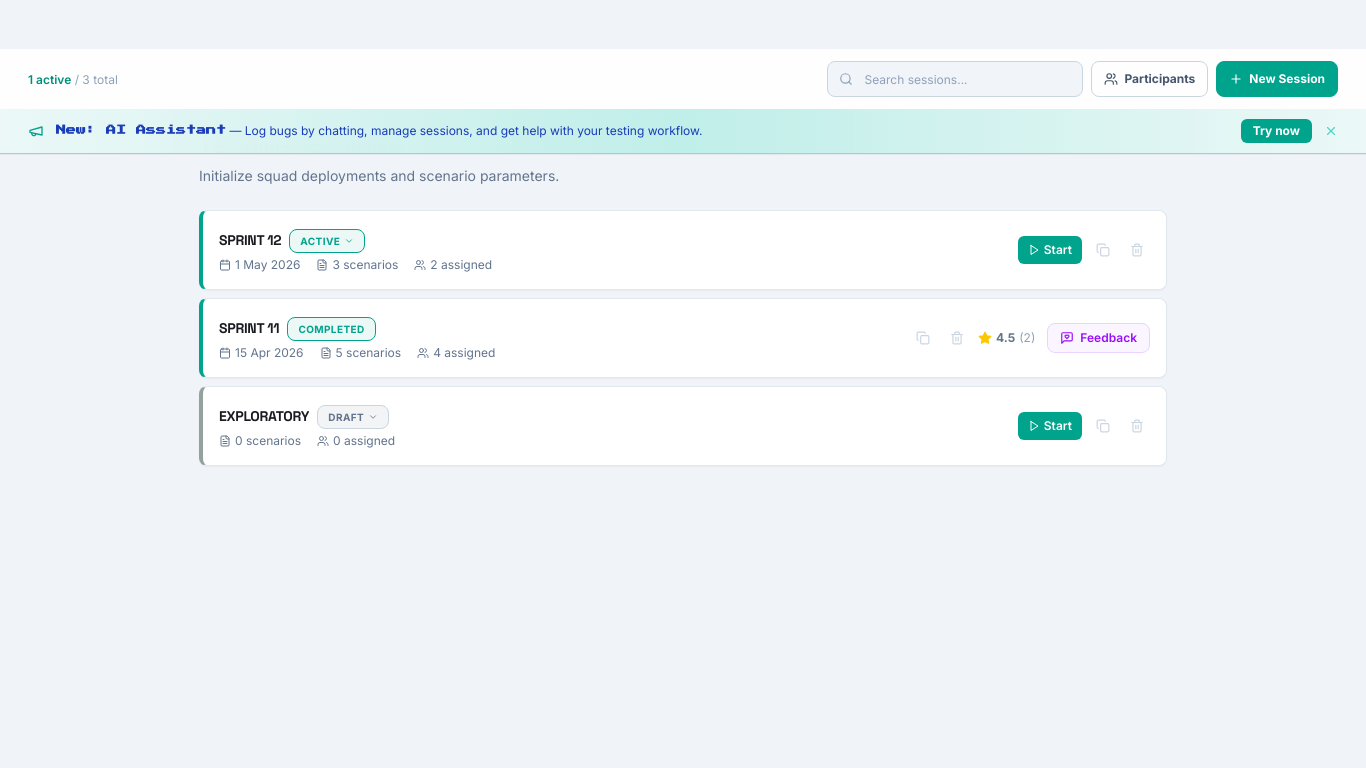
Test: SessionsListPage › cancel closes delete confirm modal
Click the button named "Delete" in the row of "1 May 2026". click: (1137, 250)
box: [1124,237,1150,263]
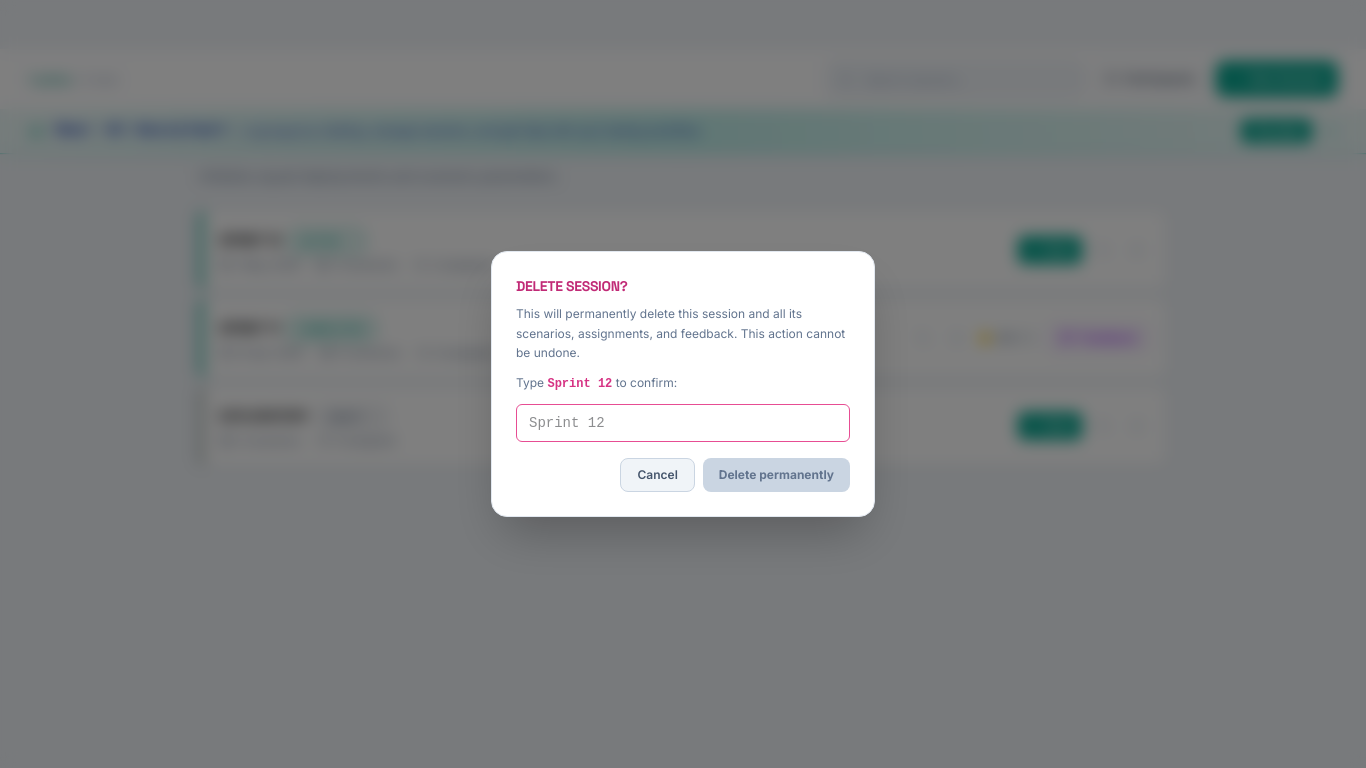
Expected: the heading "Delete session?" is shown, [516,277,628,295]
Click the button "Cancel". click: (658, 475)
box: [620,458,695,492]
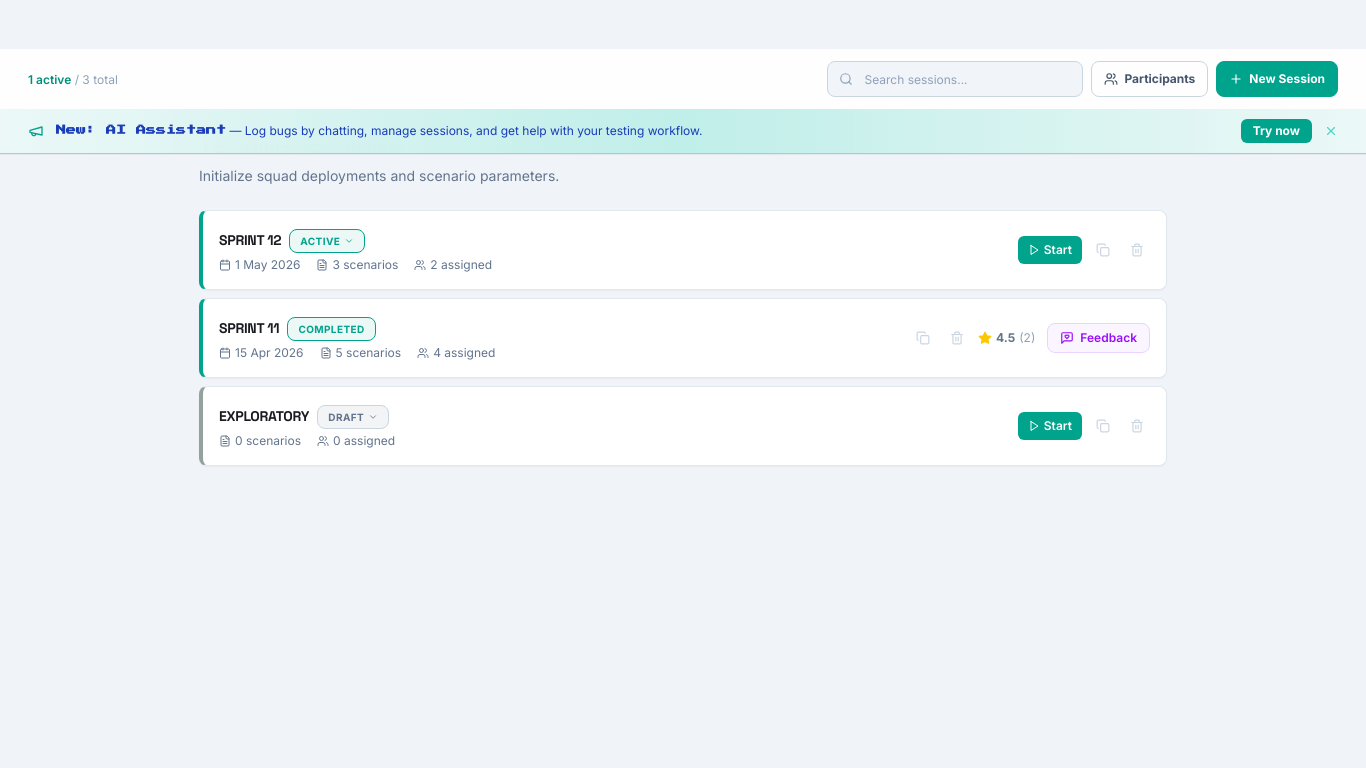
Expected: the heading "Delete session?" is gone
